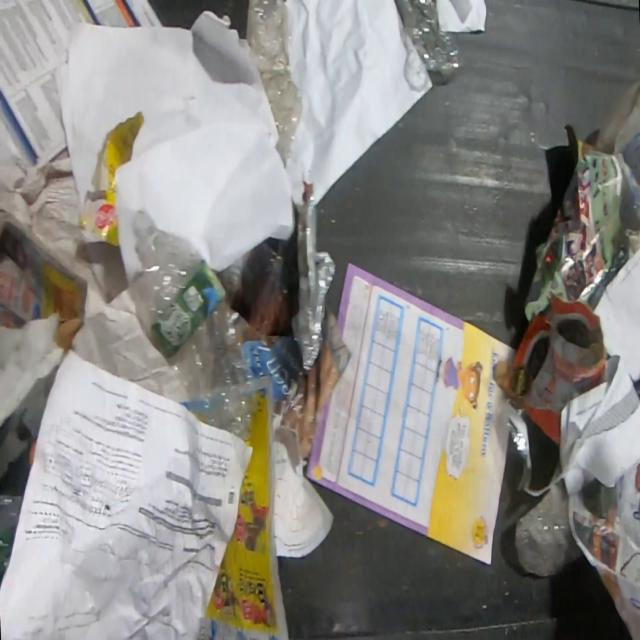cardboard: (79, 110, 146, 246), (563, 121, 597, 167)
metal: (288, 199, 338, 374)
rigid_plastic: (125, 206, 260, 442), (245, 0, 305, 170), (396, 0, 464, 92)
soft_plastic: (595, 73, 639, 258), (514, 480, 584, 580), (492, 395, 553, 498), (0, 492, 24, 589)
